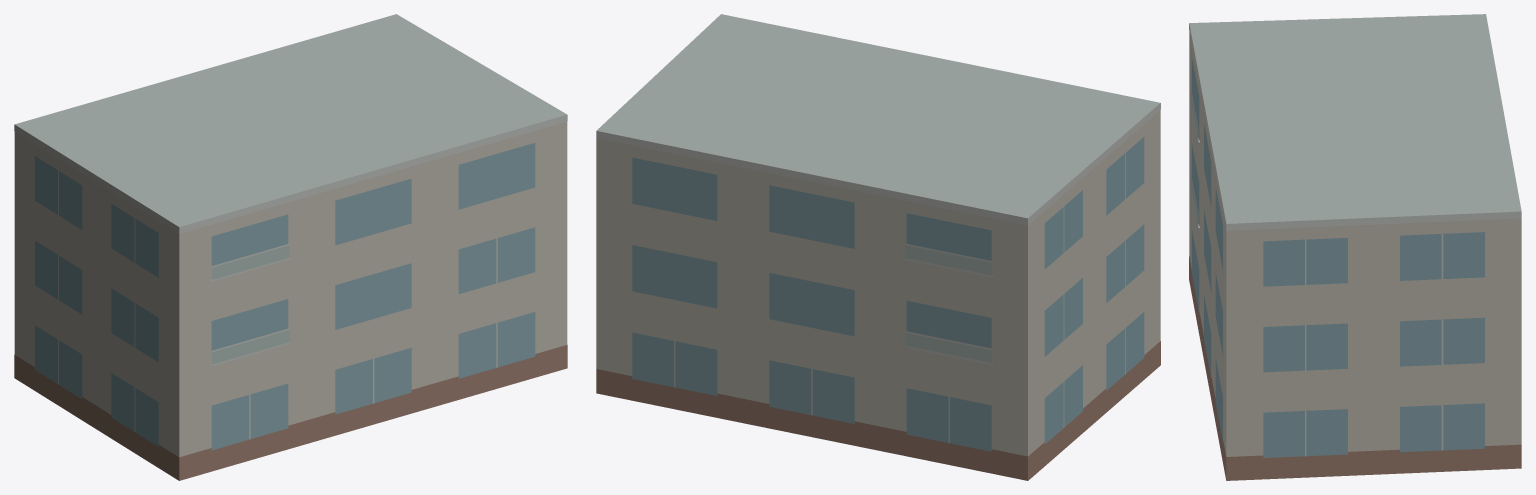
The model's file is survey-upis-32561506.glb.
3 renders of one model, left to right at view 1: azimuth 30°, elevation 25°; view 2: azimuth 150°, elevation 25°; view 3: azimuth 270°, elevation 25°, orthographic. The views are drawn at different scales.
Parts seen in each view (by area): view 1: survey-upis-32561506.tmp; view 2: survey-upis-32561506.tmp; view 3: survey-upis-32561506.tmp.
Part boxes in pixels (x1=…): survey-upis-32561506.tmp: x1=14, y1=14, x2=567, y2=480; survey-upis-32561506.tmp: x1=596, y1=14, x2=1160, y2=480; survey-upis-32561506.tmp: x1=1189, y1=14, x2=1521, y2=480.
Size of the model in its own units: 16.04 by 9.15 by 10.74.
